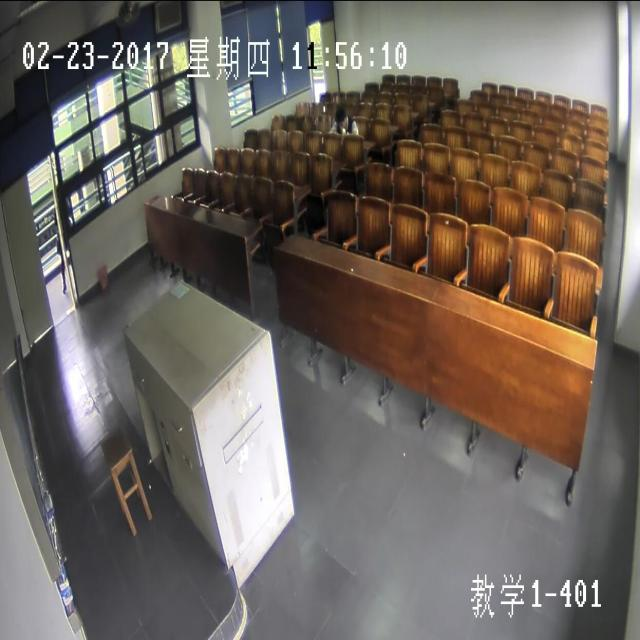person: (333, 105, 348, 131)
